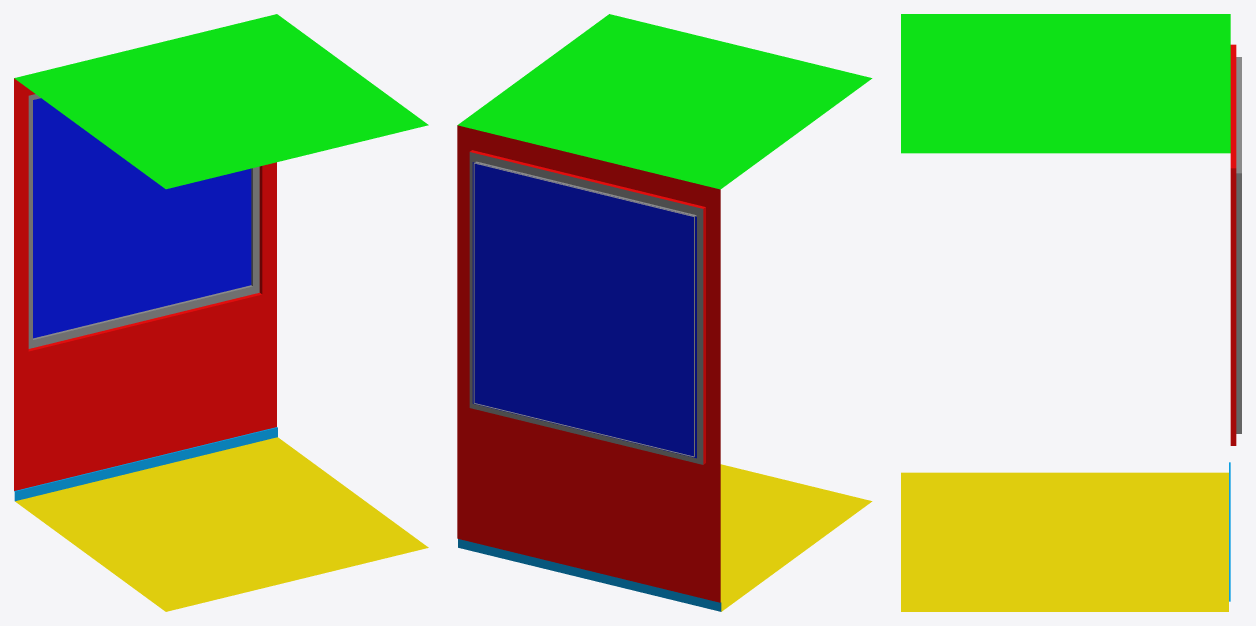
The model's file is SM_Window_A.FBX.
The picture shows the model from 3 angles, left to right: view 1: azimuth 30°, elevation 25°; view 2: azimuth 150°, elevation 25°; view 3: azimuth 270°, elevation 25°; orthographic projection. The views are drawn at different scales.
Visible parts, largest first — view 1: SM_Window_A, SM_Glass_A; view 2: SM_Window_A, SM_Glass_A; view 3: SM_Window_A.
Part boxes in pixels (x1,y1,x2,y2): SM_Window_A: [14, 14, 428, 611]; SM_Glass_A: [33, 98, 251, 338]; SM_Window_A: [457, 14, 872, 611]; SM_Glass_A: [472, 162, 696, 458]; SM_Window_A: [901, 14, 1241, 611].
Bounding box in the file's own units: 2 × 3.07 × 2.07.
